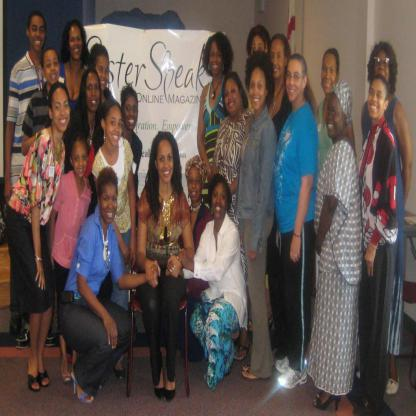face: (326, 93, 345, 138), (53, 88, 70, 132), (287, 59, 304, 103), (100, 186, 119, 225), (157, 141, 174, 183), (250, 68, 266, 111), (369, 81, 386, 120), (107, 107, 123, 146), (322, 55, 338, 94), (225, 80, 241, 116), (87, 73, 101, 112), (375, 51, 391, 85), (212, 184, 227, 220), (272, 41, 286, 79), (31, 16, 46, 51), (74, 142, 88, 178), (45, 50, 59, 85), (69, 27, 83, 61), (124, 97, 138, 131), (96, 58, 110, 91), (189, 166, 201, 202), (252, 37, 268, 62), (211, 43, 222, 74)
